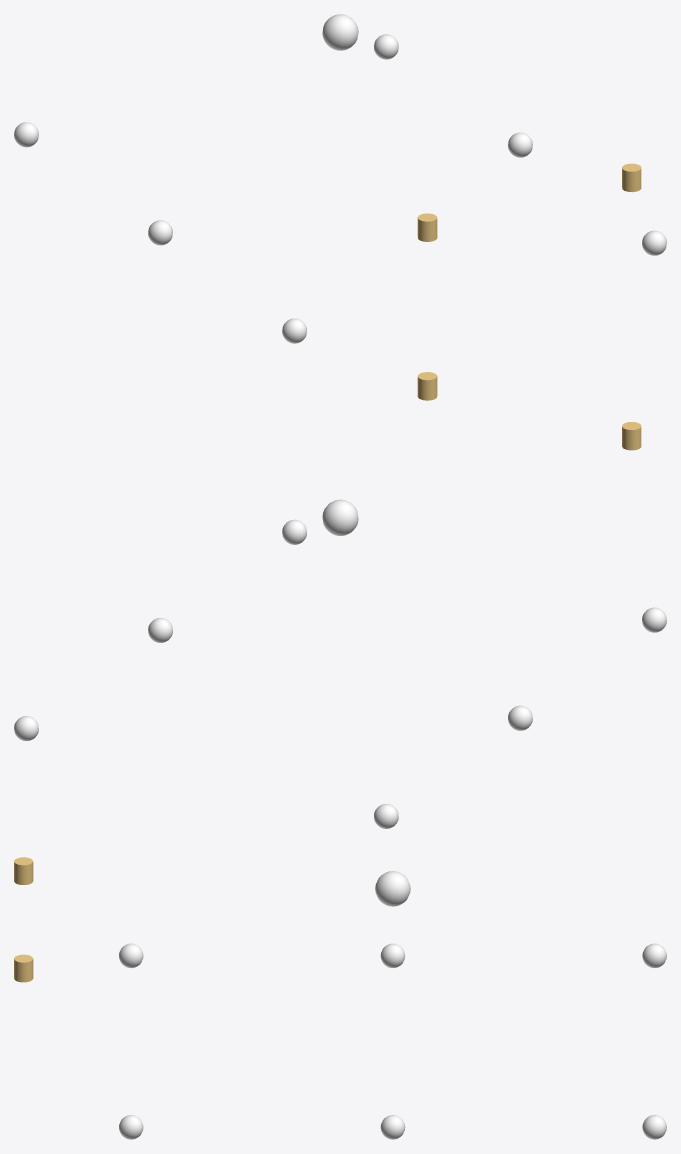
Rendered from sondas_anemometros.glb.
The picture shows the model from 3 angles, top to bottom: view 1: azimuth 30°, elevation 25°; view 2: azimuth 150°, elevation 25°; view 3: azimuth 270°, elevation 25°; orthographic projection. The views are drawn at different scales.
Visible parts, largest first — view 1: Sonda_ID2, Anemometro_ID16_PR-3000, Anemometro_ID15_WS200, Sonda_ID6, Sonda_ID4, Sonda_ID5, Sonda_ID8, Sonda_ID9, Sonda_ID7; view 2: Sonda_ID2; view 3: Sonda_ID2, Anemometro_ID15_WS200, Anemometro_ID16_PR-3000, Sonda_ID6, Sonda_ID9, Sonda_ID7, Sonda_ID8, Sonda_ID4, Sonda_ID5.
Boxes of the visible parts, <box> form: Sonda_ID2: <box>322,14,358,50</box>; Anemometro_ID16_PR-3000: <box>417,213,437,241</box>; Anemometro_ID15_WS200: <box>622,163,641,192</box>; Sonda_ID6: <box>14,122,38,147</box>; Sonda_ID4: <box>282,318,306,343</box>; Sonda_ID5: <box>148,220,172,245</box>; Sonda_ID8: <box>508,132,532,157</box>; Sonda_ID9: <box>374,34,398,59</box>; Sonda_ID7: <box>642,230,666,255</box>; Sonda_ID2: <box>322,499,358,535</box>; Sonda_ID2: <box>375,871,410,906</box>; Anemometro_ID15_WS200: <box>14,954,33,982</box>; Anemometro_ID16_PR-3000: <box>14,857,33,884</box>; Sonda_ID6: <box>642,943,666,968</box>; Sonda_ID9: <box>642,1115,666,1139</box>; Sonda_ID7: <box>119,1115,143,1139</box>; Sonda_ID8: <box>380,1115,405,1139</box>; Sonda_ID4: <box>119,943,143,968</box>; Sonda_ID5: <box>380,943,405,967</box>.
Size of the model in its own units: 3.14 by 1.45 by 4.77.
